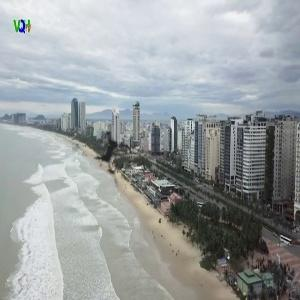drone: (65, 107, 162, 204)
